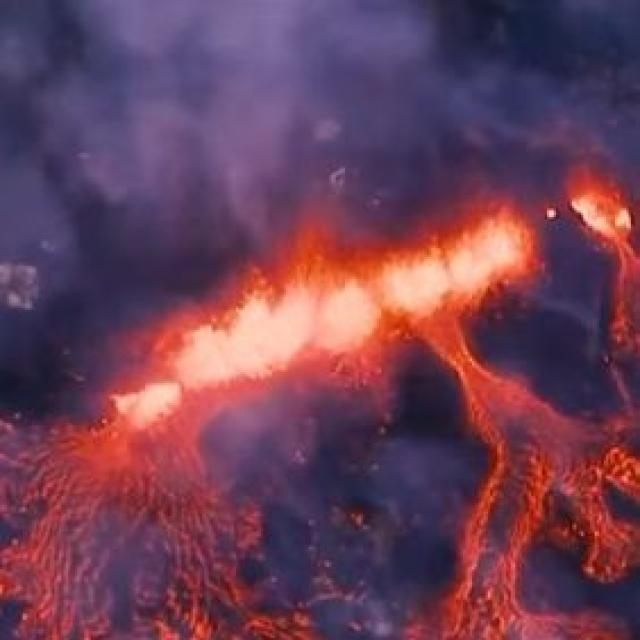Fire: (99, 213, 530, 428)
Smoke: (0, 0, 609, 213)
